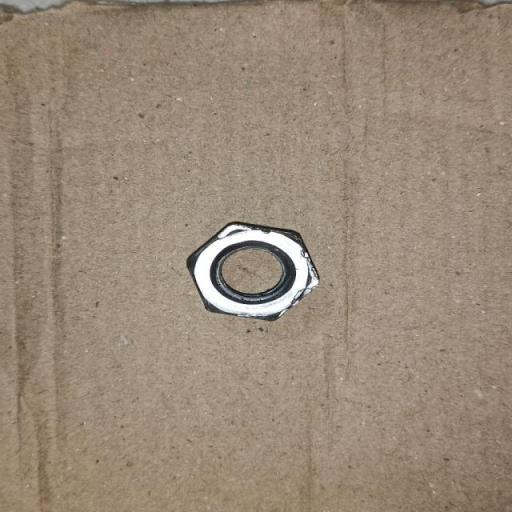Nut: (186, 220, 320, 322)
